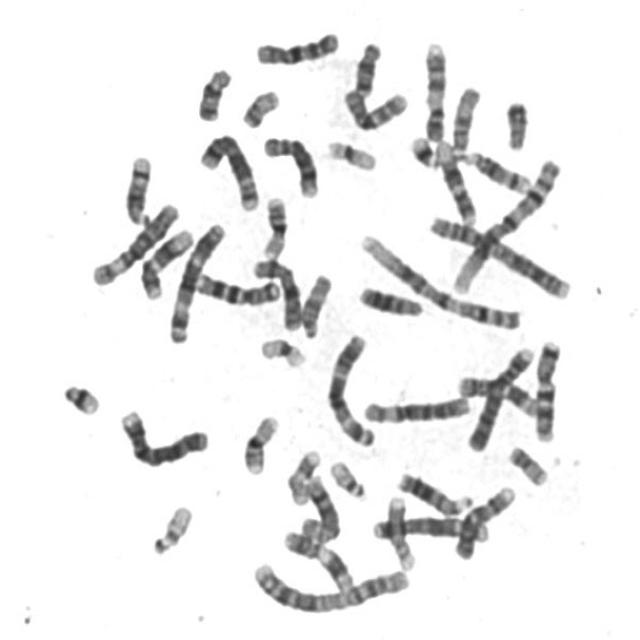A1: (355, 226, 527, 331), (444, 152, 564, 296)
A2: (424, 207, 574, 301), (245, 553, 414, 616)
A3: (163, 216, 229, 345), (322, 327, 380, 448)
B4: (462, 339, 537, 454), (115, 402, 212, 469)
B5: (194, 125, 262, 212), (365, 509, 494, 543)
C10: (251, 24, 343, 66), (338, 81, 413, 132)
C11: (278, 522, 358, 592), (453, 368, 543, 418)
C12: (136, 220, 197, 301), (430, 135, 479, 226)
C6: (86, 195, 182, 287), (358, 388, 474, 426)
C7: (530, 332, 566, 444), (191, 264, 282, 308)
C8: (258, 129, 322, 199), (296, 469, 344, 544)
C9: (449, 478, 519, 562), (418, 34, 450, 144)
D13: (392, 464, 476, 516), (354, 278, 427, 319)
D14: (460, 143, 535, 194), (119, 147, 156, 227)
D15: (446, 78, 484, 155), (296, 267, 335, 340)
E16: (237, 407, 282, 476), (257, 189, 290, 260)
E17: (381, 489, 420, 572), (282, 442, 324, 507)
E18: (192, 60, 234, 123), (348, 34, 386, 97)
F19: (321, 132, 380, 173), (255, 330, 309, 370)
F20: (503, 438, 552, 488), (237, 83, 283, 130)
G21: (56, 374, 103, 418), (405, 128, 443, 170)
G22: (146, 498, 197, 556), (324, 453, 371, 501)
X: (248, 251, 306, 332)
Y: (500, 92, 533, 152)
